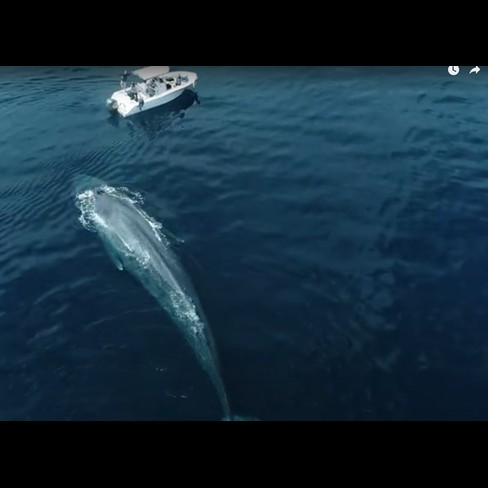bluewhale: (66, 167, 258, 422)
